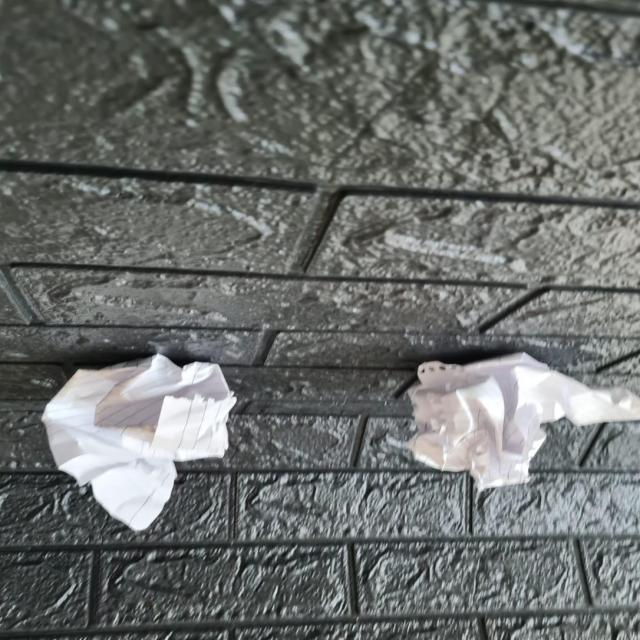kertas: (389, 348, 640, 488), (34, 363, 246, 525)
